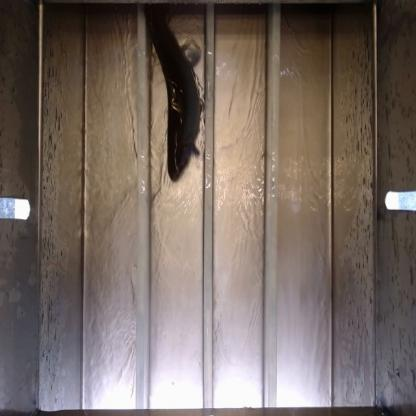pezw: (148, 25, 204, 185)
